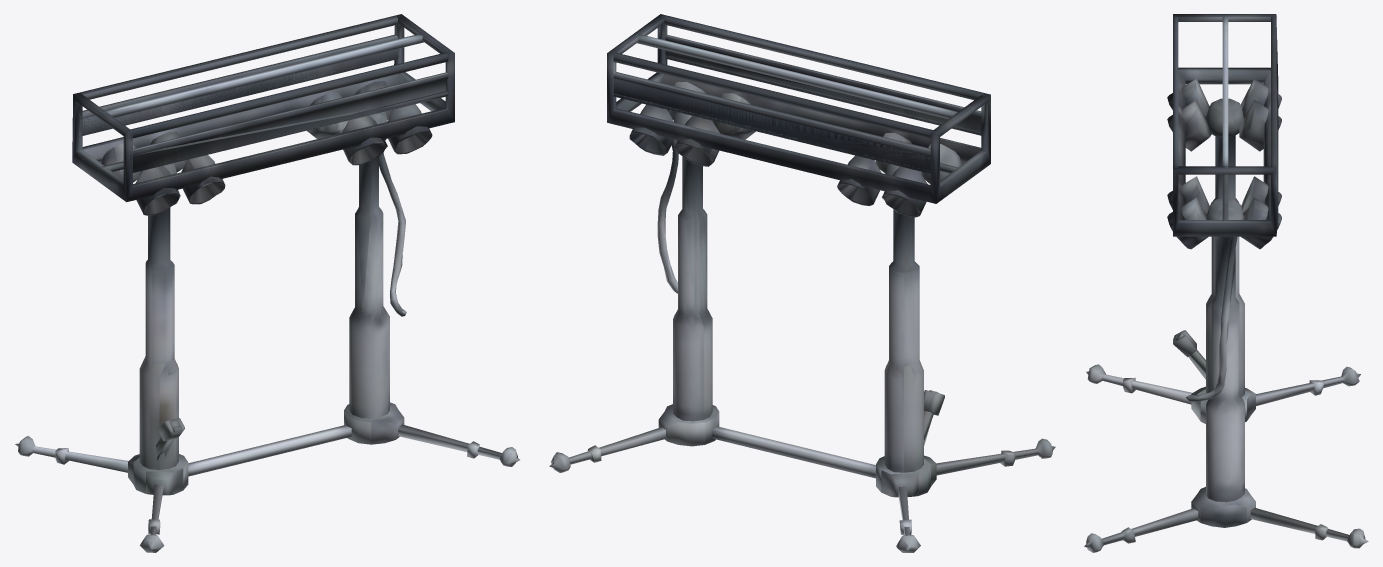
The model's file is 整備庫_10_升降工作台.glb.
3 renders of one model, left to right at view 1: azimuth 30°, elevation 25°; view 2: azimuth 150°, elevation 25°; view 3: azimuth 270°, elevation 25°, orthographic. The views are drawn at different scales.
Parts seen in each view (by area): view 1: 10_升降工作台; view 2: 10_升降工作台; view 3: 10_升降工作台.
Part boxes in pixels (<box>): 10_升降工作台: <box>15,14,519,552</box>; 10_升降工作台: <box>549,14,1055,552</box>; 10_升降工作台: <box>1084,14,1368,552</box>.
Size of the model in its own units: 0.1108 by 0.1089 by 0.0752.
Materials: 1 (1 with a texture image).
